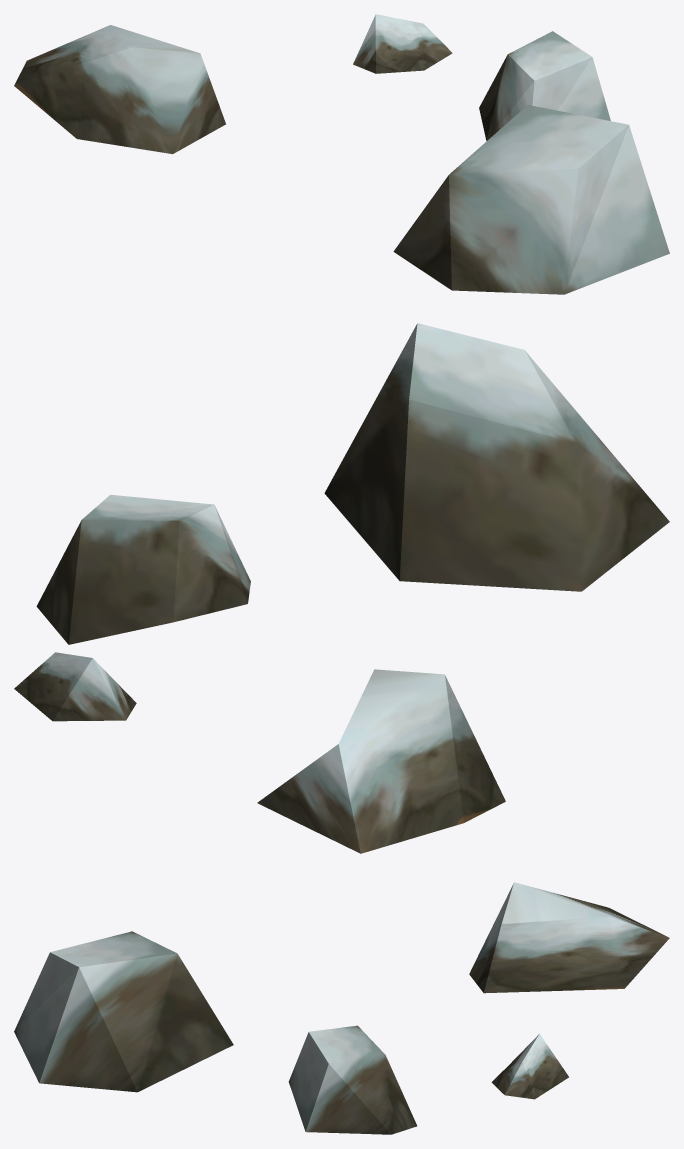
Rendered from environment_stone_yewaixuedi_001_b.FBX.
The picture shows the model from 3 angles, top to bottom: view 1: azimuth 30°, elevation 25°; view 2: azimuth 150°, elevation 25°; view 3: azimuth 270°, elevation 25°; orthographic projection. The views are drawn at different scales.
Visible parts, largest first — view 1: environment_stone_yewaixuedi_001_b; view 2: environment_stone_yewaixuedi_001_b; view 3: environment_stone_yewaixuedi_001_b.
Part boxes in pixels (bbox=[...]): environment_stone_yewaixuedi_001_b: bbox=[14, 14, 669, 294]; environment_stone_yewaixuedi_001_b: bbox=[14, 323, 669, 853]; environment_stone_yewaixuedi_001_b: bbox=[14, 882, 669, 1134].
Bounding box in the file's own units: 145 × 41.22 × 202.
1 material, 1 textured.
